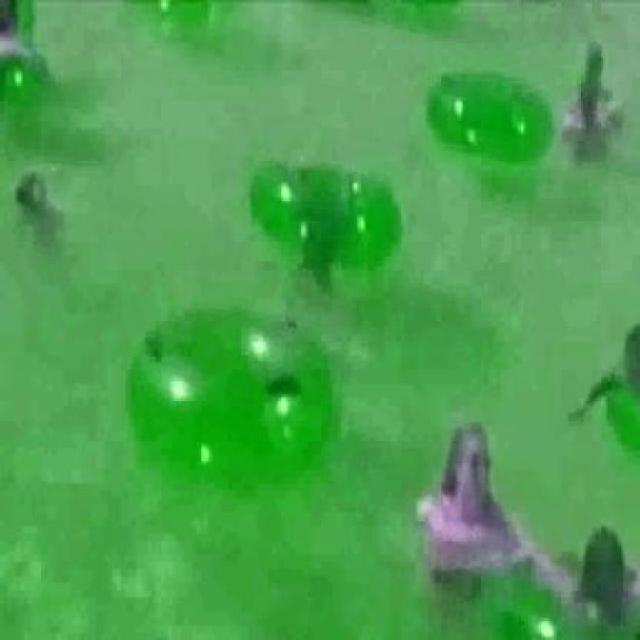drowning: (424, 420, 527, 582), (563, 78, 620, 160), (15, 173, 77, 244)
